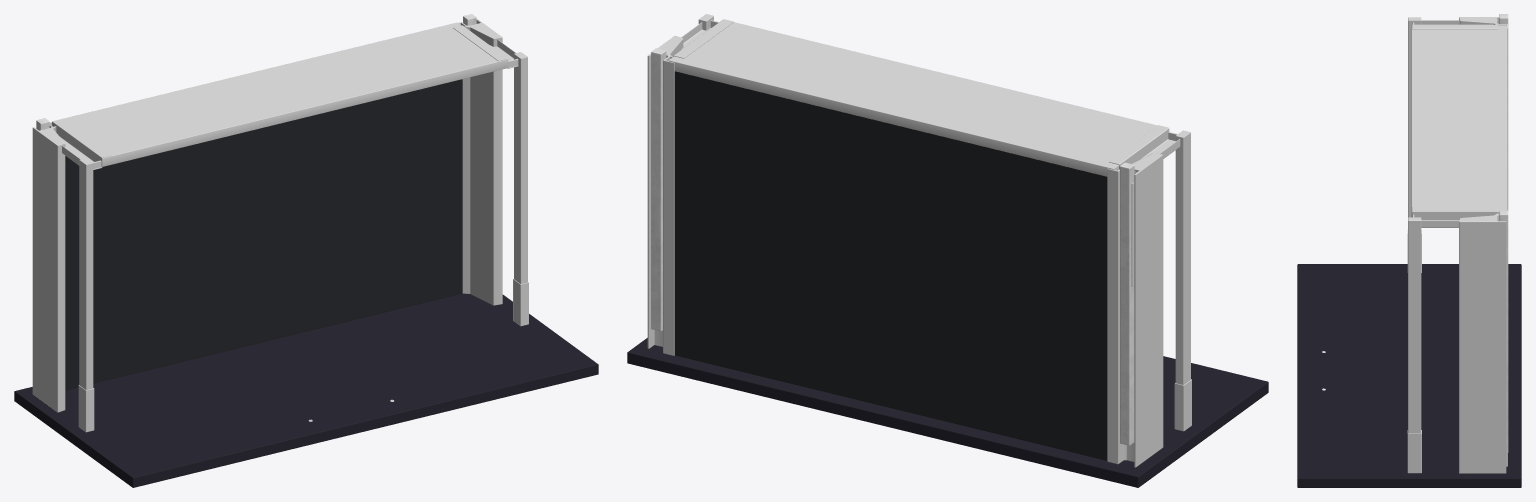
File: SM_Kitchen_11_Drawer_03.obj
3 views of the same model, side by side, from view 1: azimuth 30°, elevation 25°; view 2: azimuth 150°, elevation 25°; view 3: azimuth 270°, elevation 25° (orthographic). The views are drawn at different scales.
Parts seen in each view (by area): view 1: SM_Kitchen_11_Drawer_03; view 2: SM_Kitchen_11_Drawer_03; view 3: SM_Kitchen_11_Drawer_03.
Boxes of the visible parts, x1,y1,x2,y2 form: SM_Kitchen_11_Drawer_03: [14, 14, 598, 487]; SM_Kitchen_11_Drawer_03: [627, 14, 1268, 487]; SM_Kitchen_11_Drawer_03: [1297, 14, 1521, 487].
Bounding box in the file's own units: 0.8969 × 0.5199 × 0.396.
4 materials, 4 textured.
